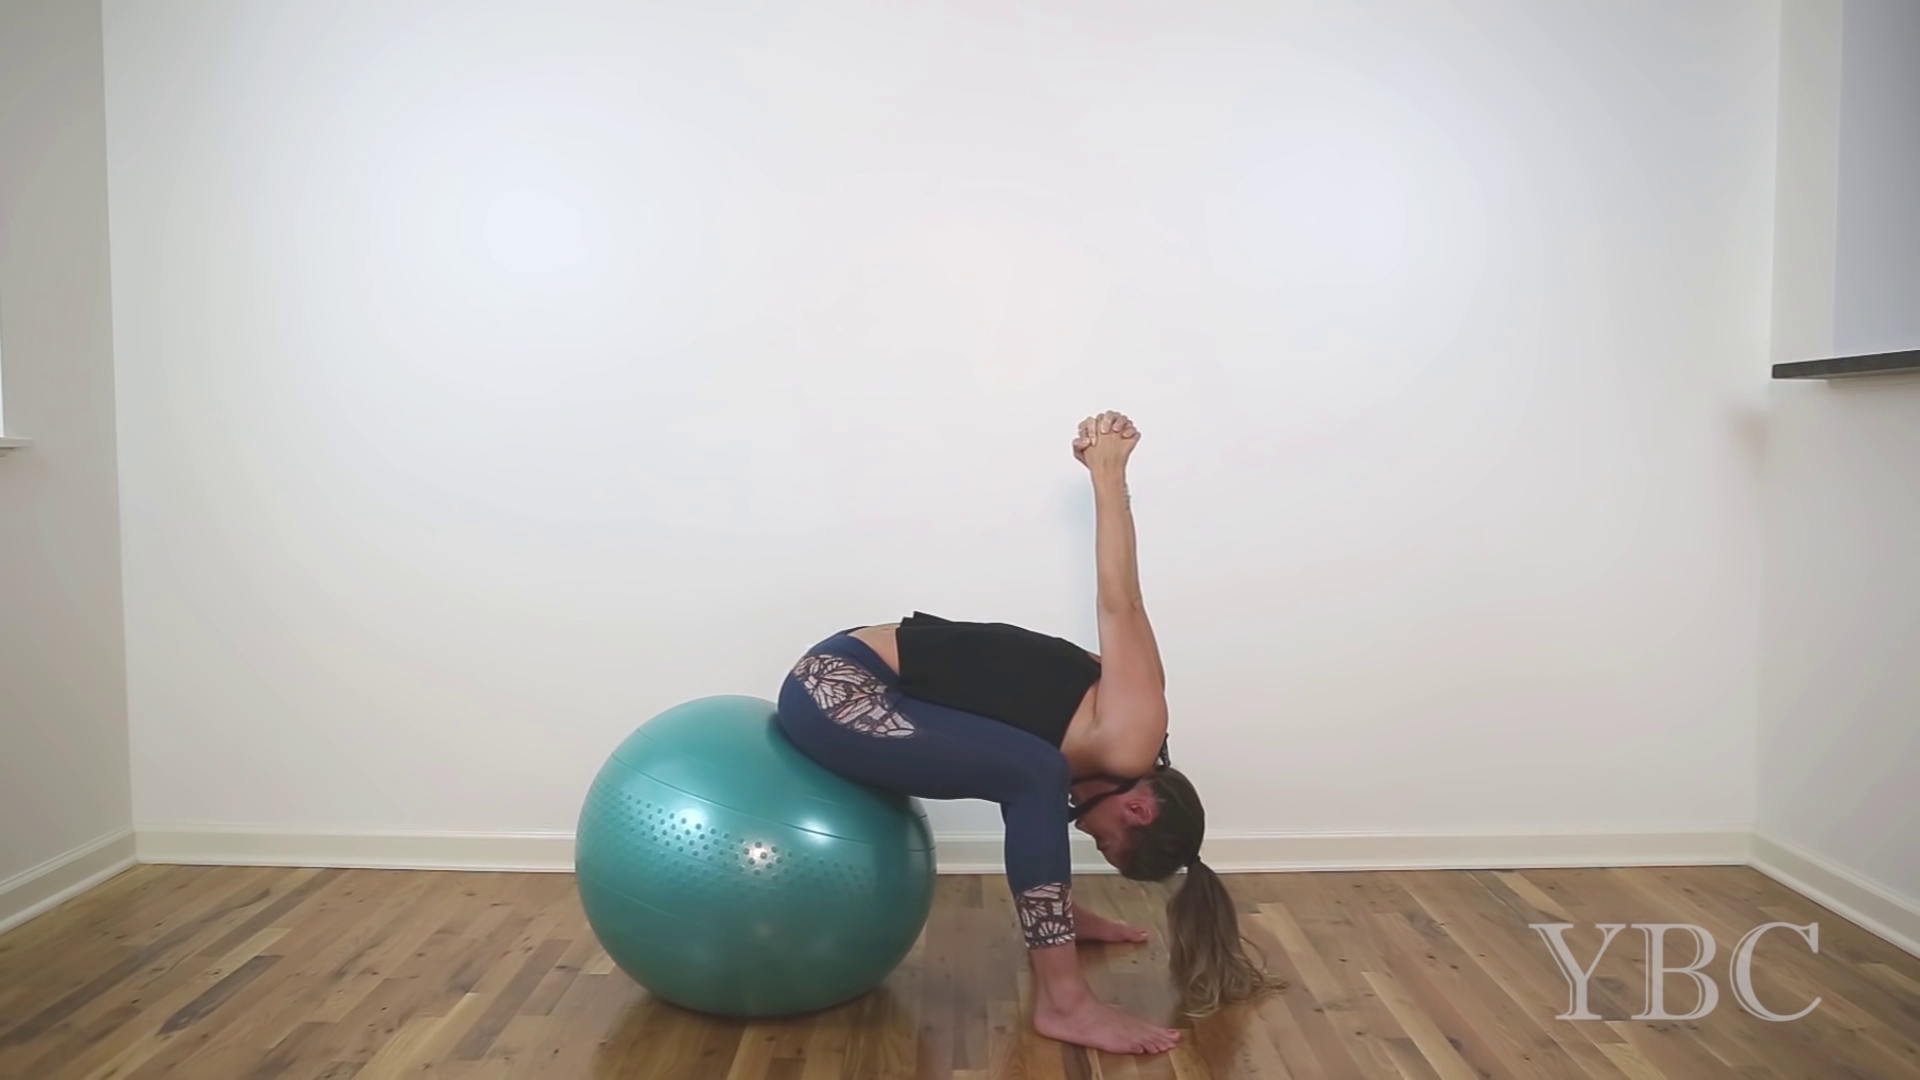yogaball: (568, 687, 949, 1038)
